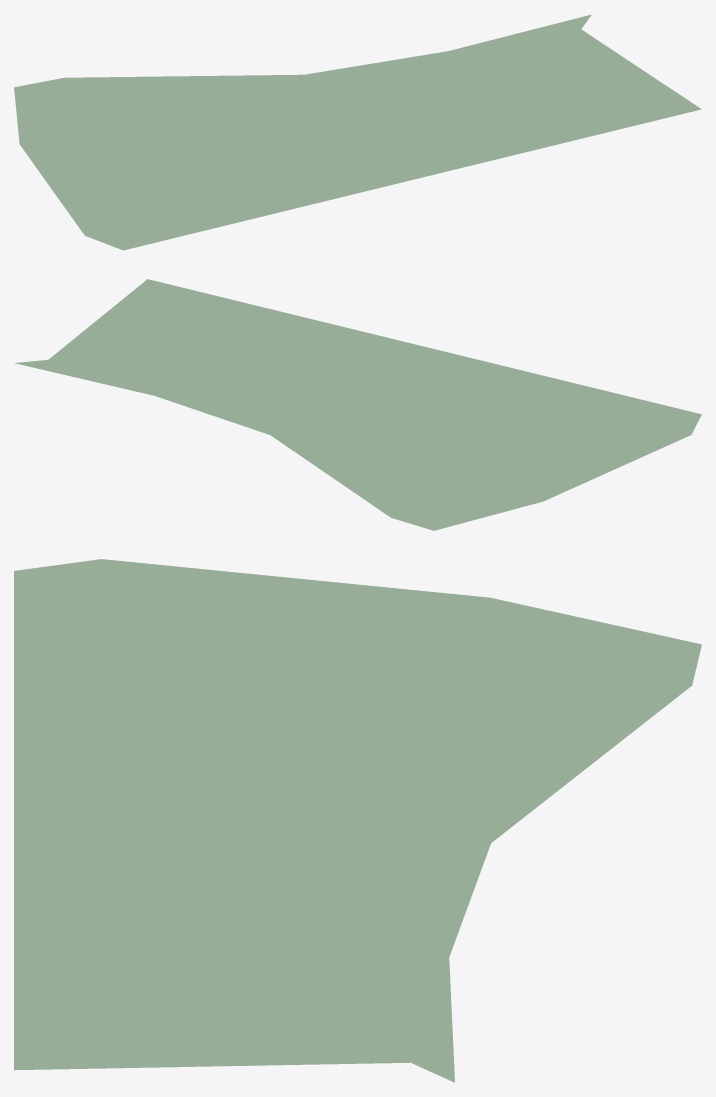
Rendered from 119_127_mid.glb.
The picture shows the model from 3 angles, top to bottom: view 1: azimuth 30°, elevation 25°; view 2: azimuth 150°, elevation 25°; view 3: azimuth 270°, elevation 25°; orthographic projection. The views are drawn at different scales.
Bounding box in the file's own units: 196 × 0 × 109.
